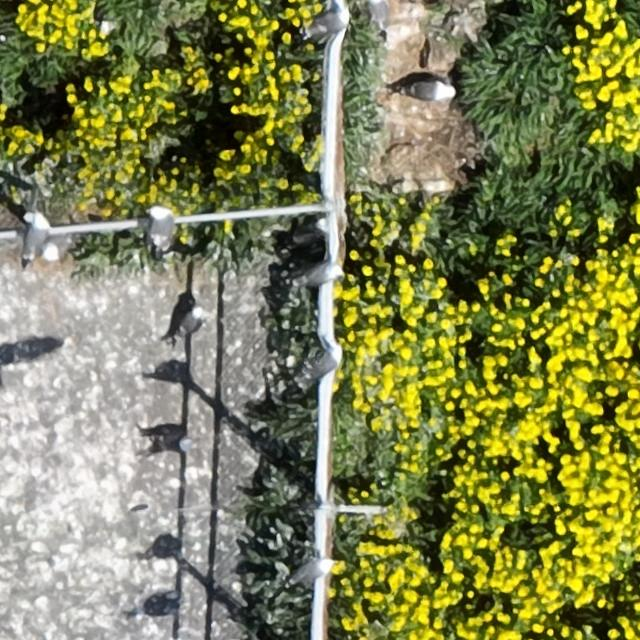umineko: (15, 205, 50, 262), (283, 556, 330, 593), (296, 258, 345, 293), (142, 203, 173, 252), (308, 334, 343, 377), (306, 6, 348, 34), (404, 80, 450, 102), (180, 305, 204, 334), (369, 0, 388, 34)
